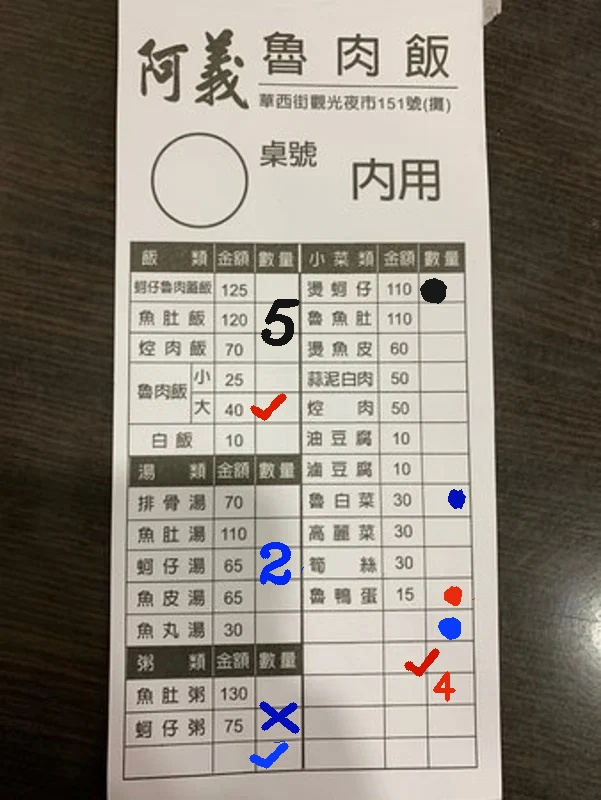marked_circle: (426, 486, 469, 514), (419, 274, 462, 302), (429, 612, 472, 640), (429, 579, 472, 607)
marked_number_2: (258, 550, 301, 578)
marked_number_4: (429, 673, 472, 701)
marked_number_5: (256, 303, 299, 331)
marked_tick: (382, 642, 425, 670), (256, 393, 299, 421), (259, 741, 302, 769)
marked_x: (256, 709, 299, 737)
